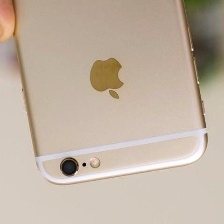phone: (0, 0, 214, 191)
